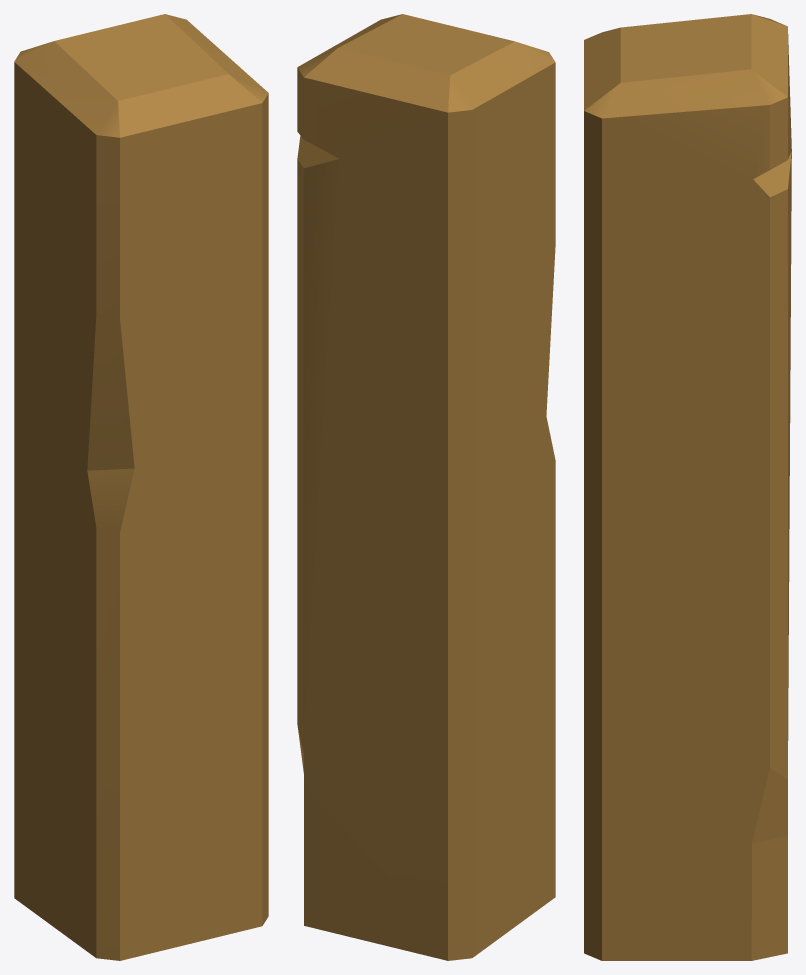
File: fencePole.glb
3 views of the same model, side by side, from view 1: azimuth 30°, elevation 25°; view 2: azimuth 150°, elevation 25°; view 3: azimuth 270°, elevation 25° (orthographic). The views are drawn at different scales.
Visible parts, largest first — view 1: fence_end; view 2: fence_end; view 3: fence_end.
Boxes of the visible parts, x1,y1,x2,y2 form: fence_end: (14, 14, 268, 960); fence_end: (297, 14, 555, 960); fence_end: (584, 14, 791, 960).
Bounding box in the file's own units: 0.8471 × 3.91 × 0.8402.
